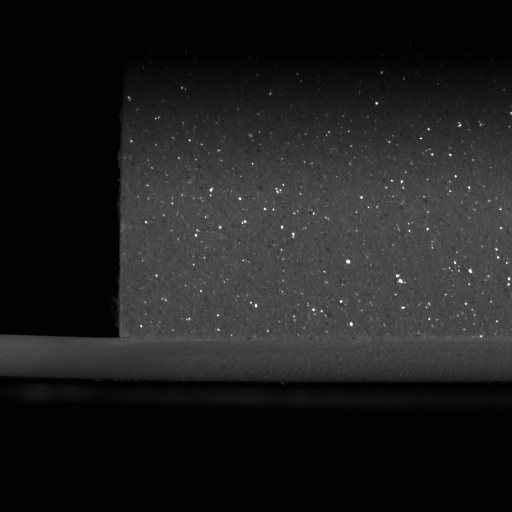changdai: (0, 332, 122, 384)
